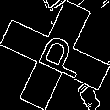P_NW: (24, 27, 86, 83)
